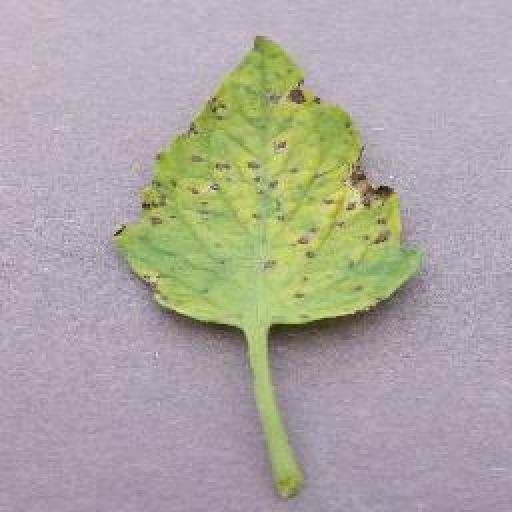disease_tomato: (112, 32, 420, 326)
